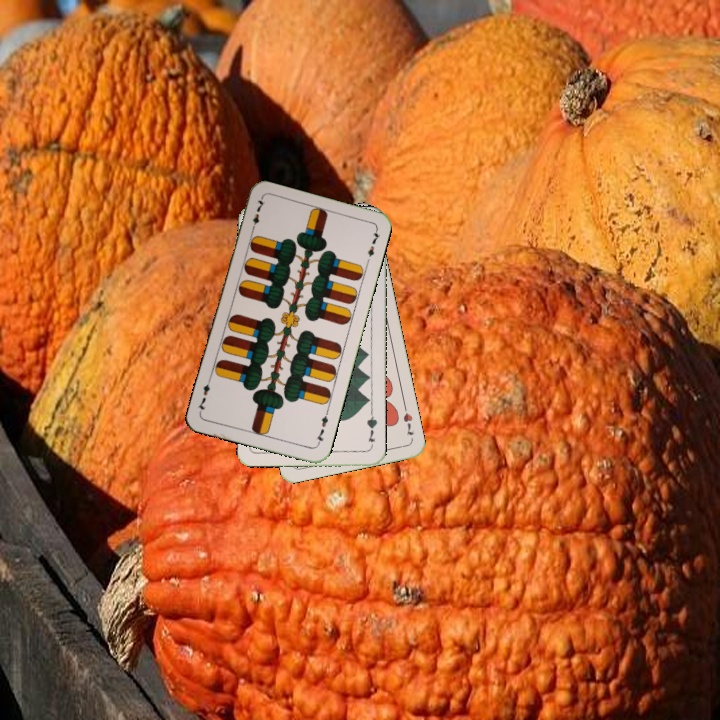E7: (247, 195, 267, 235), (312, 408, 331, 448)
G7: (363, 410, 380, 450)
H7: (399, 402, 417, 438)
